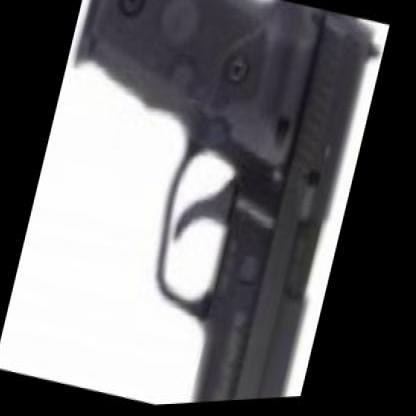pistol: (4, 0, 395, 413)
